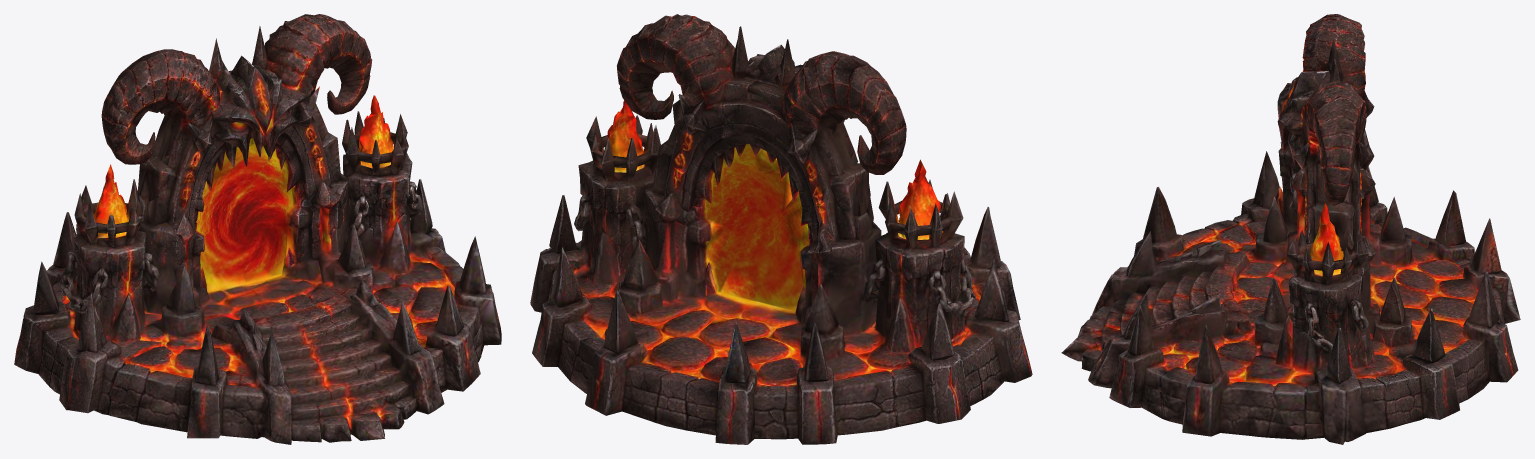
The model's file is fire_base-hellgate.glb.
The picture shows the model from 3 angles, left to right: view 1: azimuth 30°, elevation 25°; view 2: azimuth 150°, elevation 25°; view 3: azimuth 270°, elevation 25°; orthographic projection. The views are drawn at different scales.
Visible parts, largest first — view 1: tripo_node_52b26cf0-c012-45d3-9e3c-b800de69c4d1; view 2: tripo_node_52b26cf0-c012-45d3-9e3c-b800de69c4d1; view 3: tripo_node_52b26cf0-c012-45d3-9e3c-b800de69c4d1.
Boxes of the visible parts, x1,y1,x2,y2 form: tripo_node_52b26cf0-c012-45d3-9e3c-b800de69c4d1: [14, 14, 501, 444]; tripo_node_52b26cf0-c012-45d3-9e3c-b800de69c4d1: [530, 14, 1032, 444]; tripo_node_52b26cf0-c012-45d3-9e3c-b800de69c4d1: [1061, 14, 1520, 444].
Size of the model in its own units: 0.9777 by 0.6879 by 0.9386.
1 material, 1 textured.
